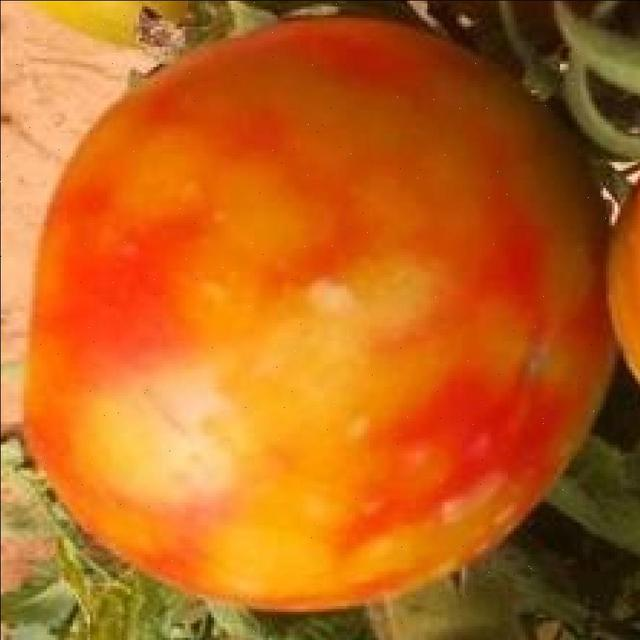Spotted wilt Virus Fruit: (13, 8, 414, 408)
